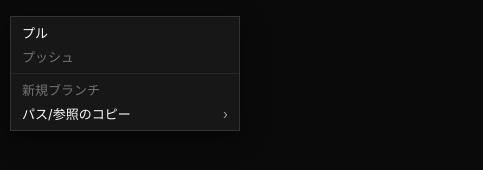
Test: コンテキストメニュー › 他の項目をホバーするとサブメニューが閉じる
Hover over the text "パス/参照のコピー" at [76, 114], box [22,104,131,124]
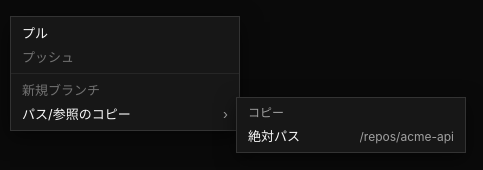
Expected: the text "絶対パス" is shown, [248,126,300,146]
Hover over the button "プル" at [125, 33], box [11,21,239,45]
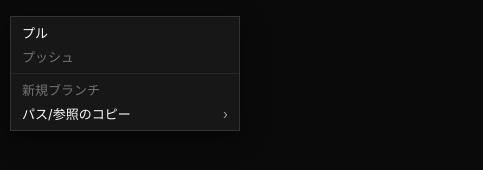
Expected: the button "絶対パス" is gone
